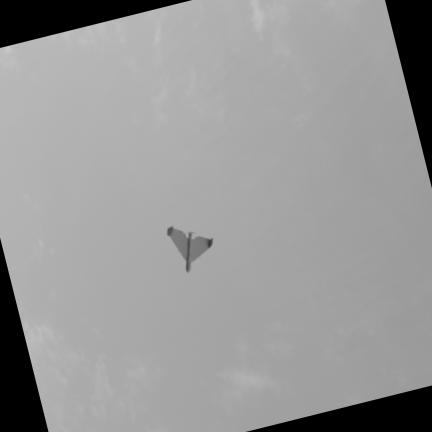Shahed: (167, 226, 211, 272)
